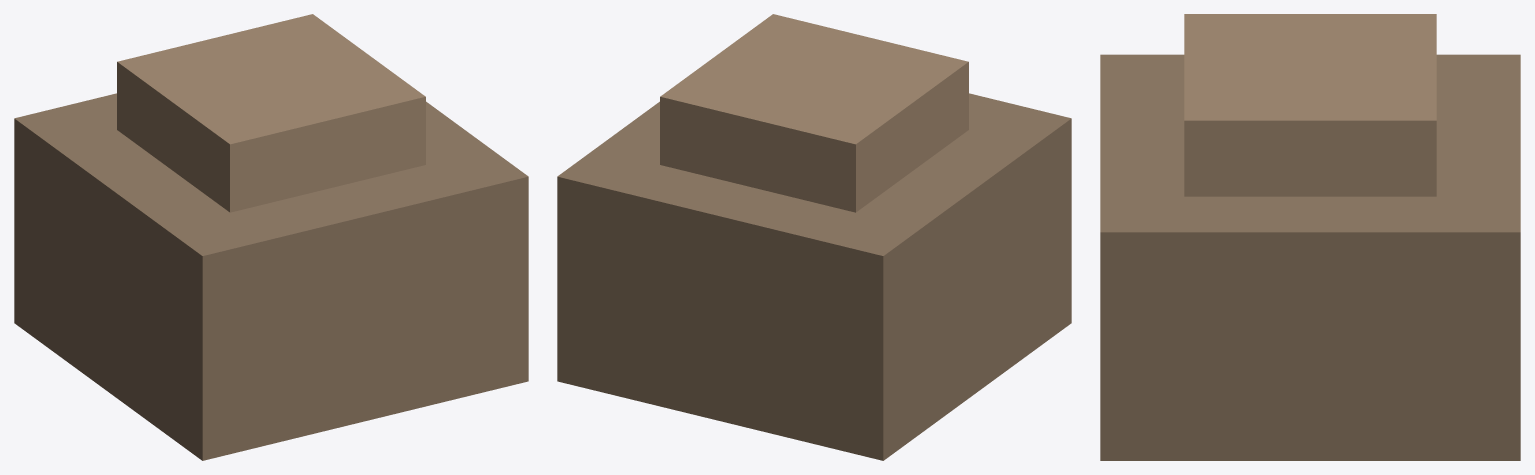
File: mueble_roto_01.glb
3 views of the same model, side by side, from view 1: azimuth 30°, elevation 25°; view 2: azimuth 150°, elevation 25°; view 3: azimuth 270°, elevation 25° (orthographic). The views are drawn at different scales.
Parts seen in each view (by area): view 1: mueble_roto; view 2: mueble_roto; view 3: mueble_roto.
Part boxes in pixels (left/top/right/bottom): mueble_roto: left=14, top=14, right=528, bottom=460; mueble_roto: left=557, top=14, right=1071, bottom=460; mueble_roto: left=1100, top=14, right=1520, bottom=460.
Bounding box in the file's own units: 0.625 × 0.5 × 0.625.
